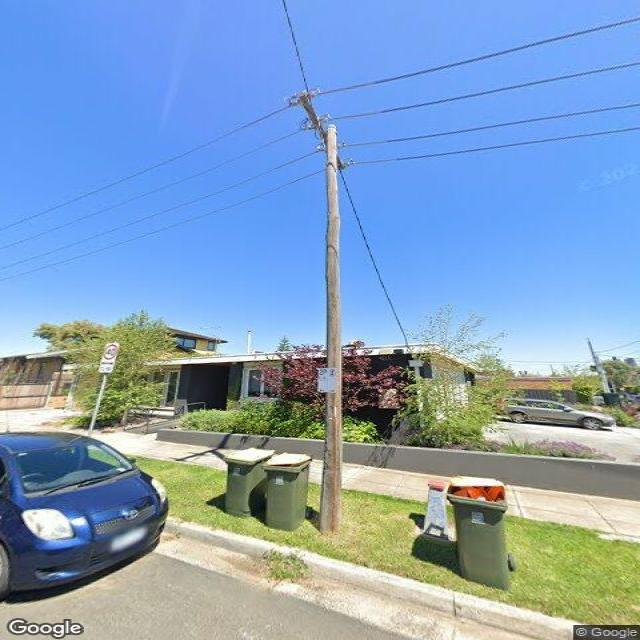crossarm: (299, 86, 350, 170)
timber-pole: (316, 125, 344, 534)
